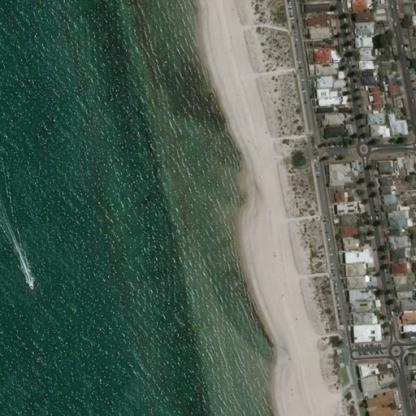ship: (20, 272, 38, 291)
